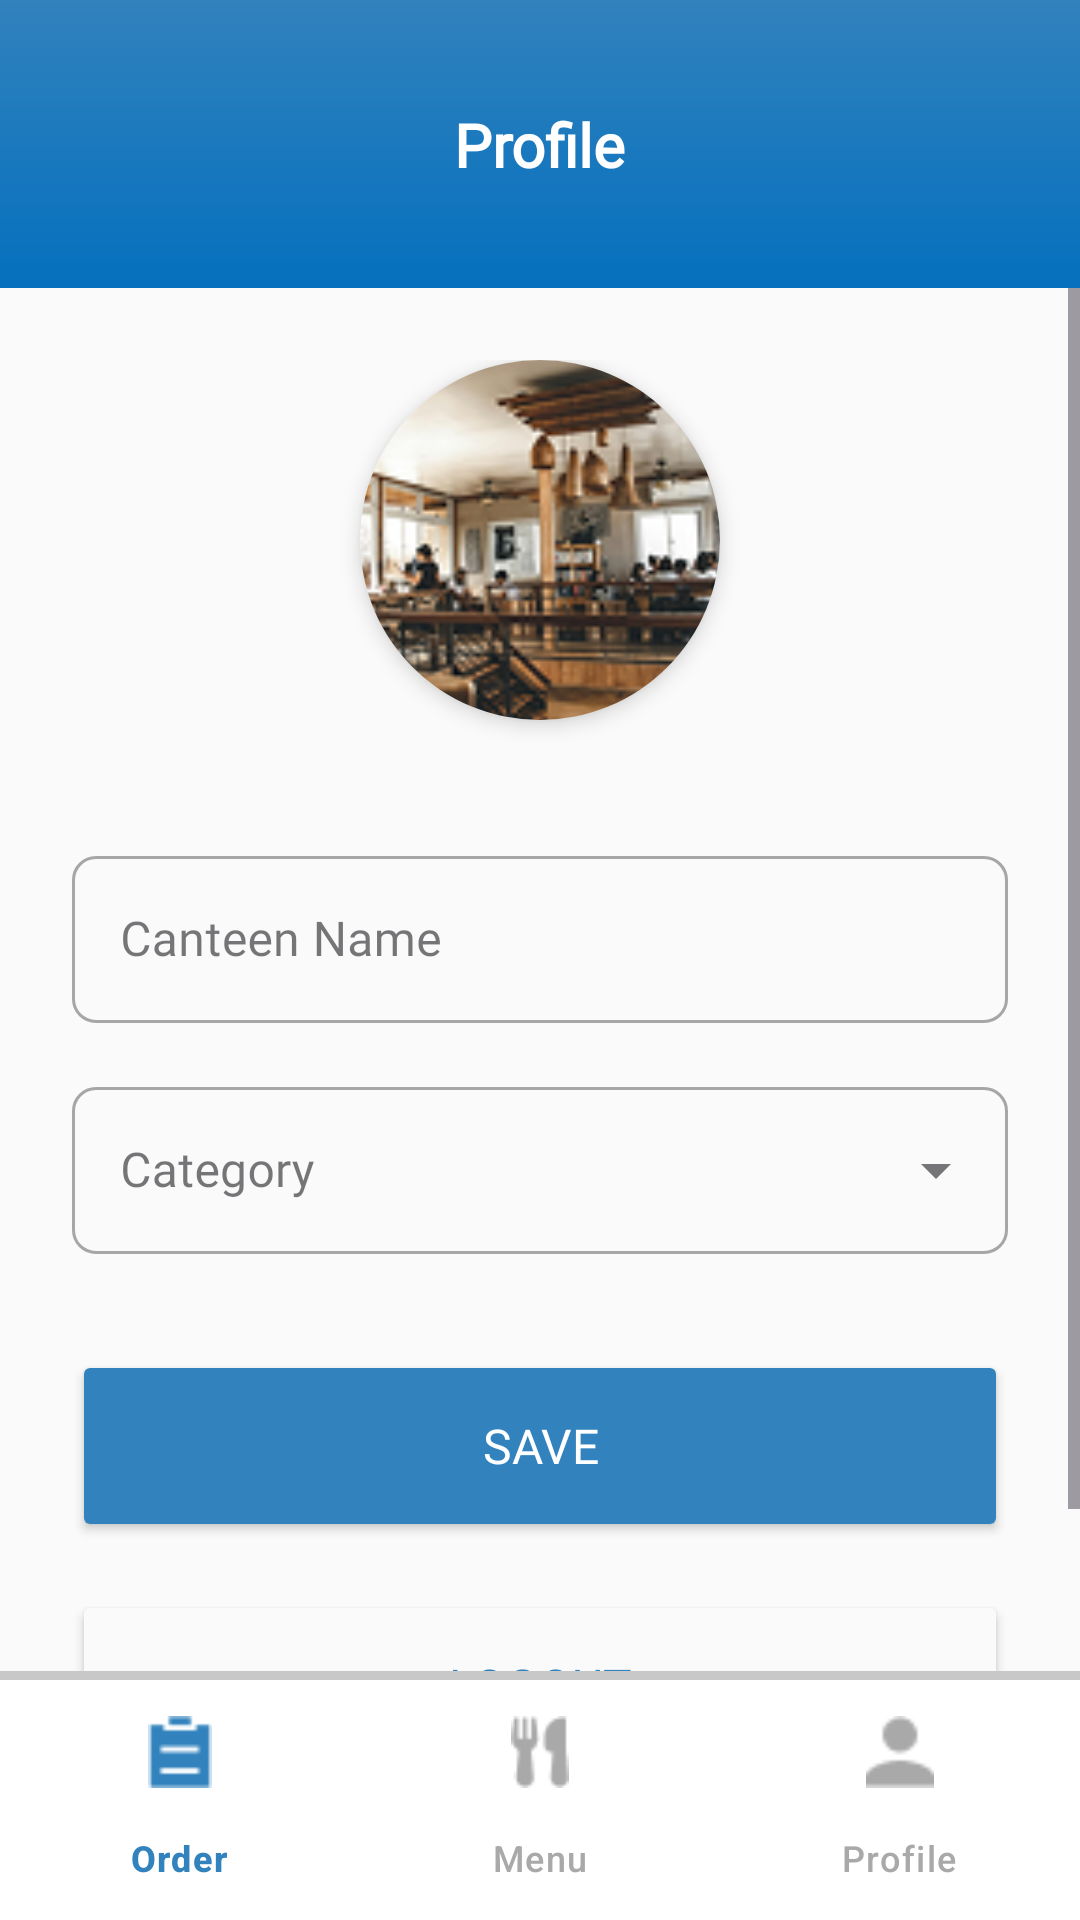

Screen size 1080px x 1920px. Icon name, then its center in pixels as (x,y):
kantinimg: (540,540)
